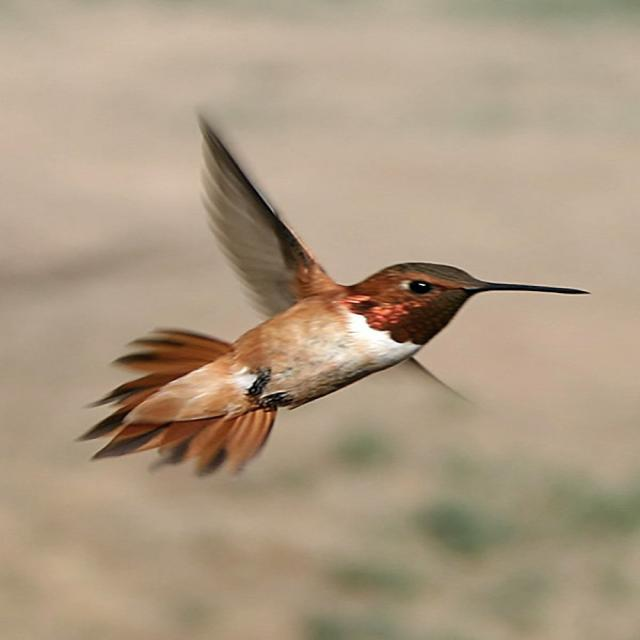hummingbird: (79, 120, 586, 475)
